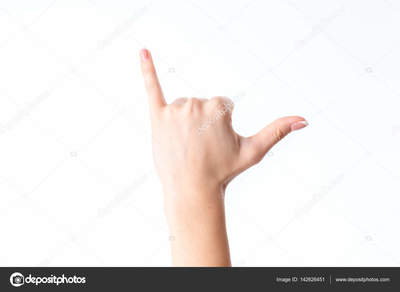mindinho: (131, 48, 173, 113)
